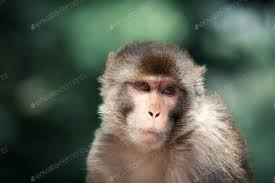monkey: (81, 11, 262, 183)
